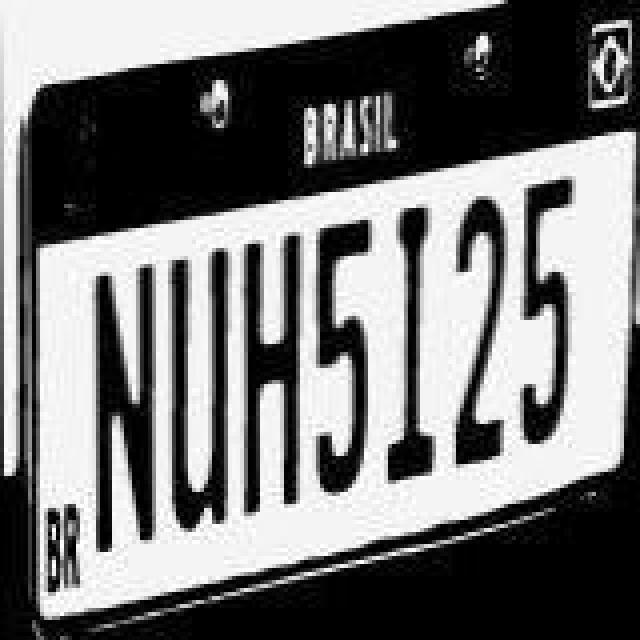2: (446, 174, 518, 458)
5: (312, 198, 380, 482), (522, 162, 586, 430)
H: (238, 216, 310, 504)
I: (382, 184, 446, 472)
N: (90, 250, 162, 558)
U: (162, 230, 234, 530)
